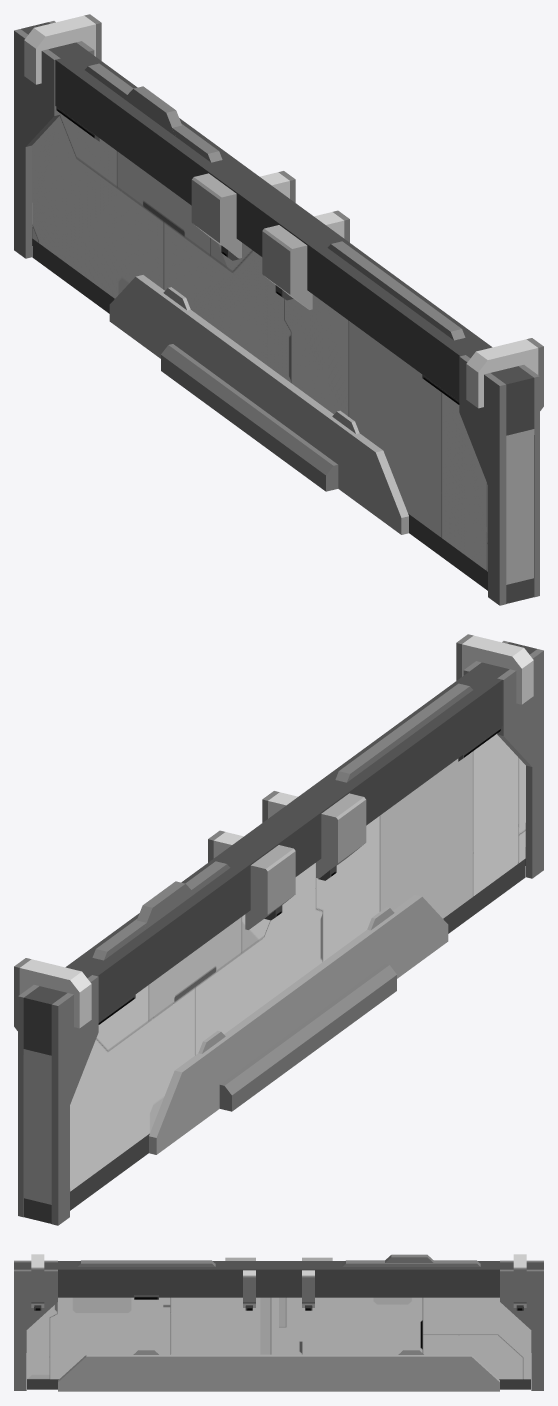
File: SM_Wall_3x12_2.fbx
3 views of the same model, one above another, from view 1: azimuth 30°, elevation 25°; view 2: azimuth 150°, elevation 25°; view 3: azimuth 270°, elevation 25° (orthographic). The views are drawn at different scales.
Visible parts, largest first — view 1: SM_Wall_3x12_2; view 2: SM_Wall_3x12_2; view 3: SM_Wall_3x12_2.
Boxes of the visible parts, x1=… form: SM_Wall_3x12_2: x1=14, y1=14, x2=543, y2=605; SM_Wall_3x12_2: x1=14, y1=634, x2=543, y2=1225; SM_Wall_3x12_2: x1=14, y1=1254, x2=543, y2=1391.
Bounding box in the file's own units: 108 × 323 × 1202.
